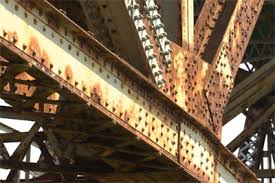rust: (20, 3, 262, 181)
